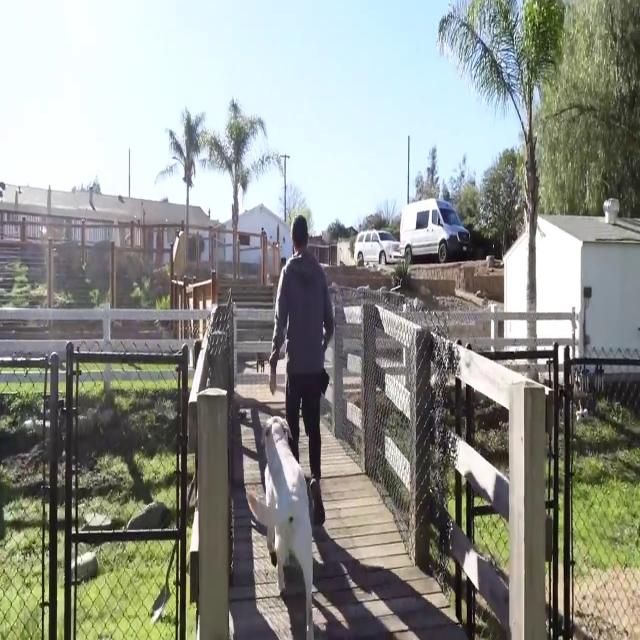Unleashed_Dog: (244, 397, 312, 640)
